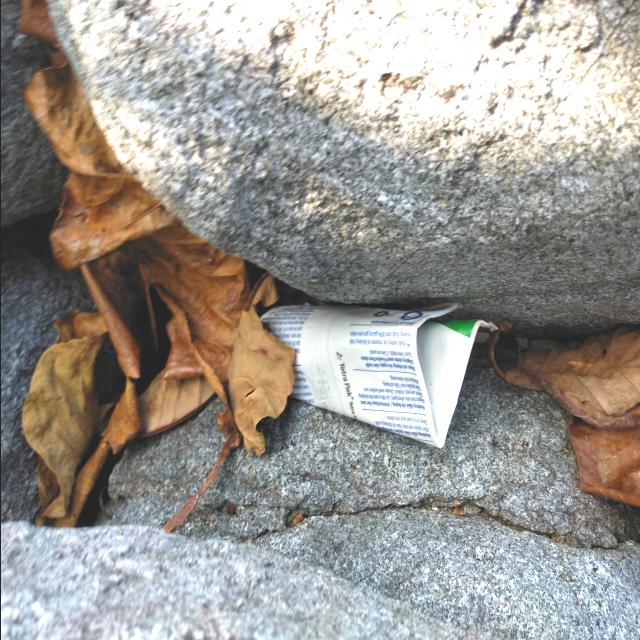Drink carton: (260, 303, 499, 449)
